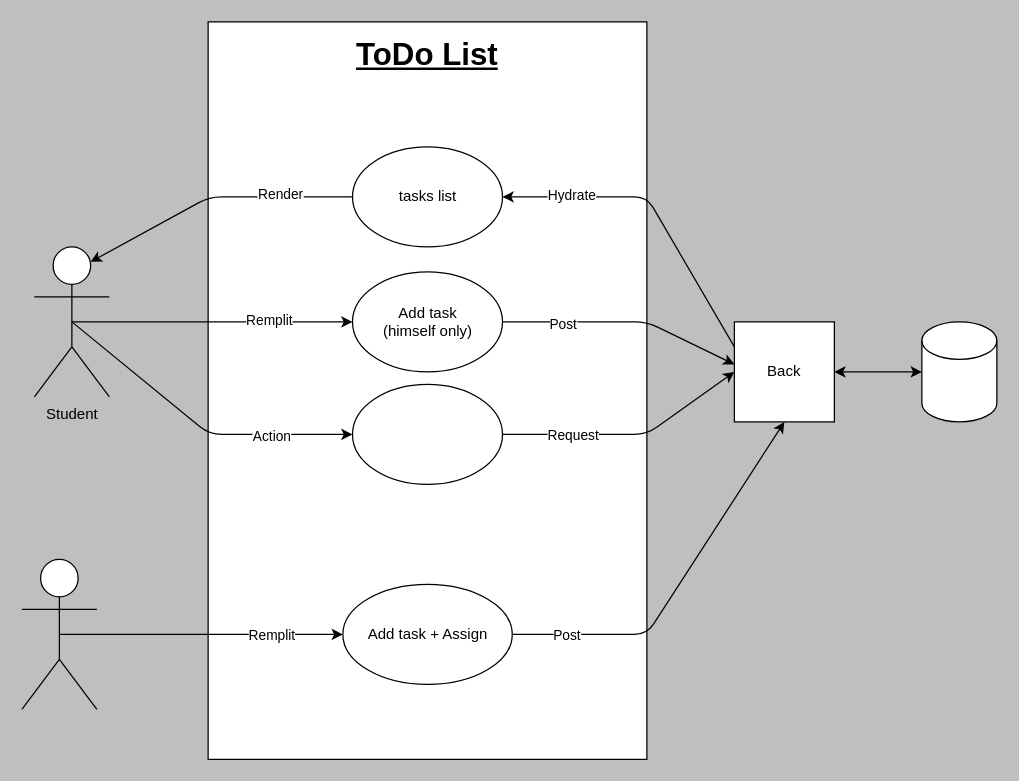
This 1019x781 diagram has some shape labels left out. Here are the shapes that lost their labels. From the top down, the centre of each, then its label:
At (959,371): "DB".
At (426,433): "Delete task".
At (59,633): "Teacher".
